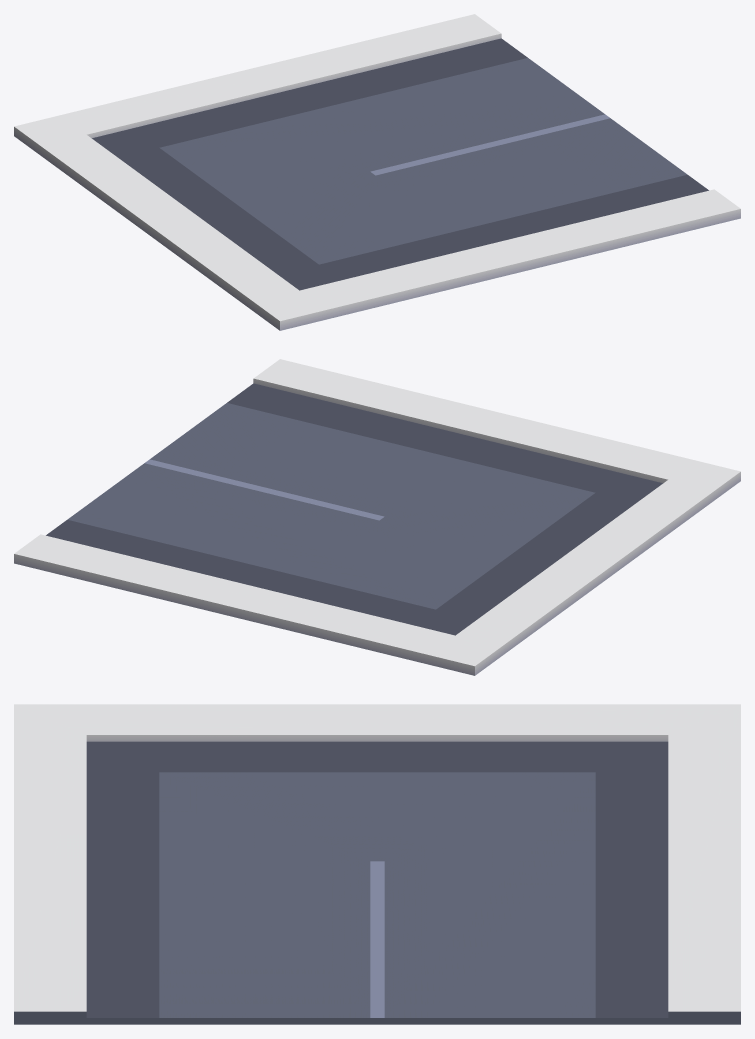
Rendered from road-end.glb.
3 renders of one model, top to bottom at view 1: azimuth 30°, elevation 25°; view 2: azimuth 150°, elevation 25°; view 3: azimuth 270°, elevation 25°, orthographic. The views are drawn at different scales.
Visible parts, largest first — view 1: road-end; view 2: road-end; view 3: road-end.
Boxes of the visible parts, left/top/right/bottom form: road-end: left=14, top=14, right=740, bottom=330; road-end: left=14, top=359, right=740, bottom=675; road-end: left=14, top=704, right=740, bottom=1024.
Bounding box in the file's own units: 1 × 0.02 × 1.
Materials: 1 (1 with a texture image).
